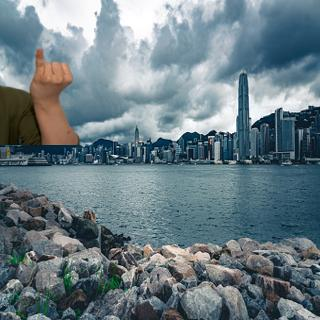FINE: (25, 45, 76, 105)
